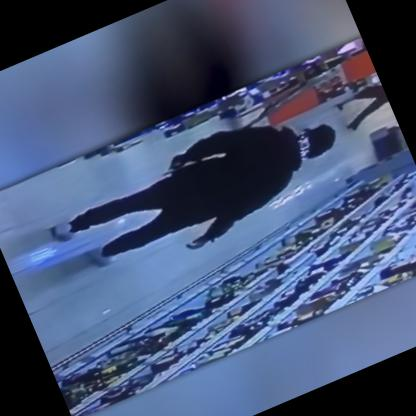Human Body: (38, 86, 362, 306)
